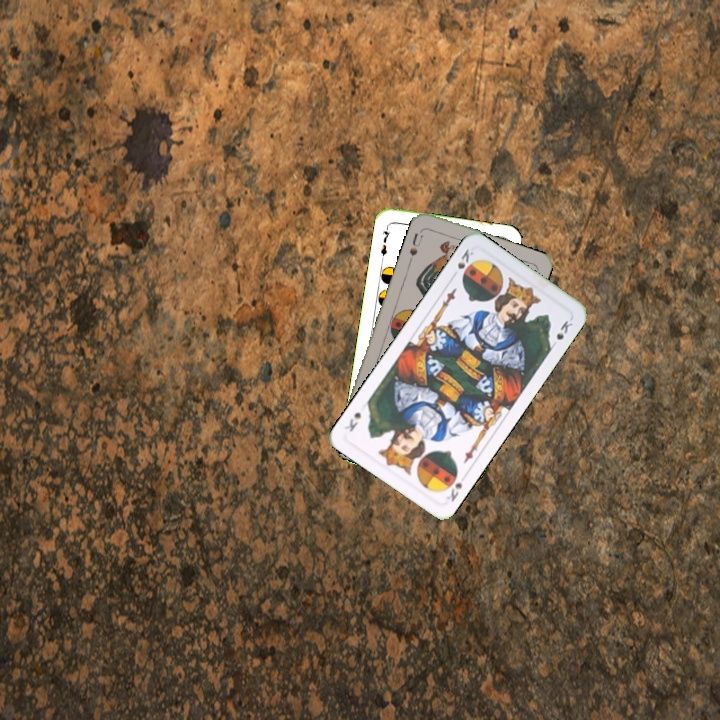E7: (376, 221, 392, 262)
SK: (448, 245, 476, 281), (442, 478, 465, 504)
SU: (405, 229, 426, 258)
